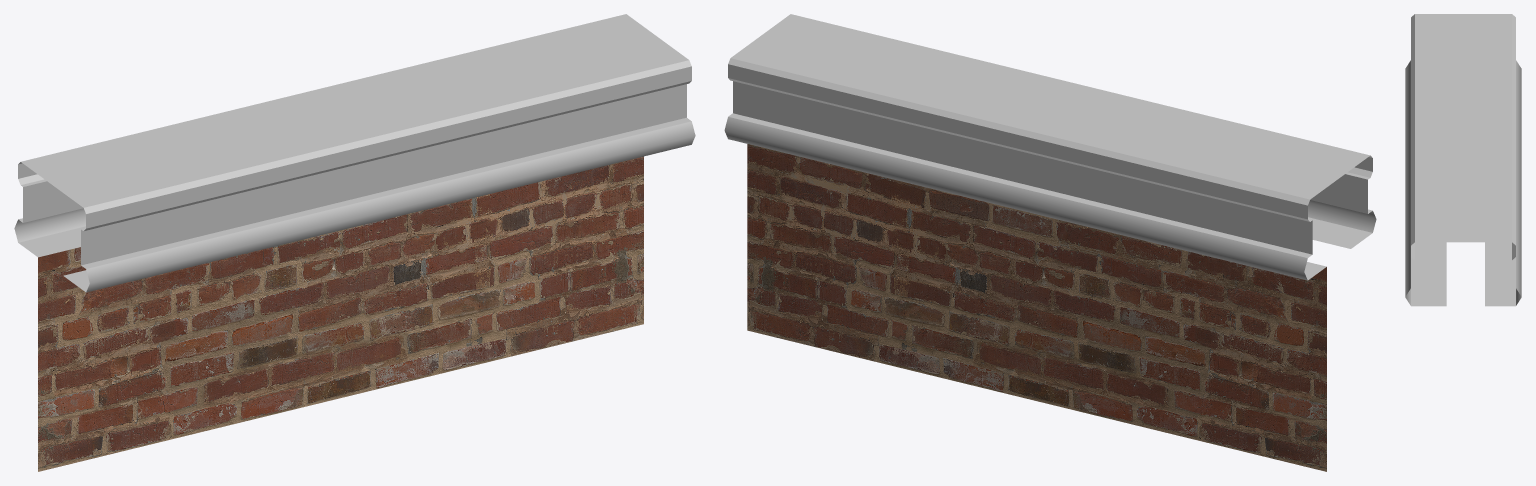
Rendered from SM_Wall_Crown.fbx.
3 renders of one model, left to right at view 1: azimuth 30°, elevation 25°; view 2: azimuth 150°, elevation 25°; view 3: azimuth 270°, elevation 25°, orthographic. The views are drawn at different scales.
Visible parts, largest first — view 1: SM_Wall_Crown; view 2: SM_Wall_Crown; view 3: SM_Wall_Crown.
Part boxes in pixels (<box>): SM_Wall_Crown: <box>14,14,695,471</box>; SM_Wall_Crown: <box>724,14,1376,471</box>; SM_Wall_Crown: <box>1405,14,1521,306</box>.
Bounding box in the file's own units: 700 × 151 × 328.
